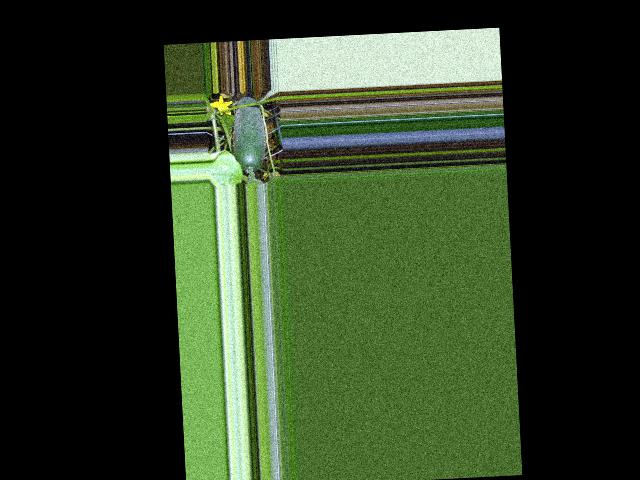cucumber: (231, 96, 267, 174)
